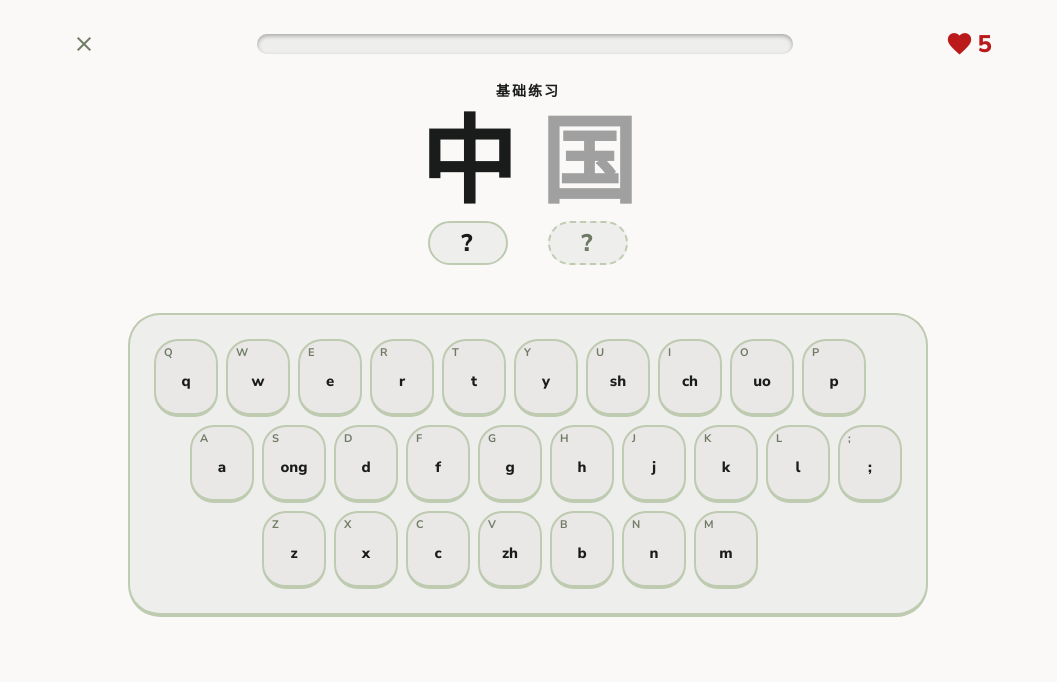
Test: Exercise › submits via keyboard key press
Click the button with aria-label "键 v" at (510, 550), box [478,511,542,589]
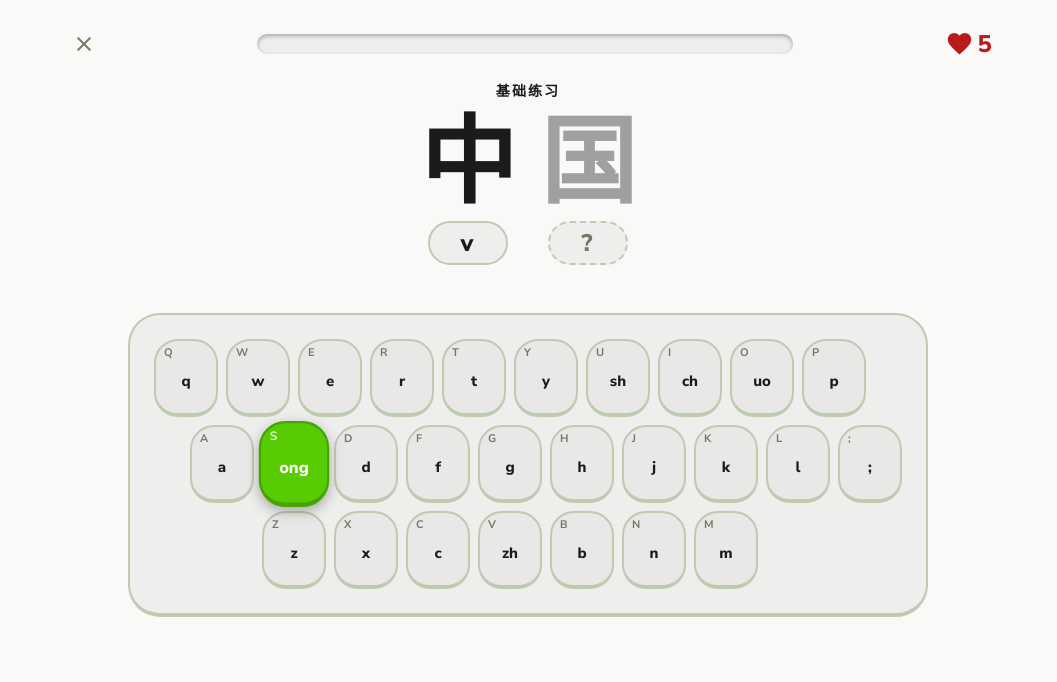
Click the button with aria-label "键 s" at (294, 464), box [259,421,329,507]
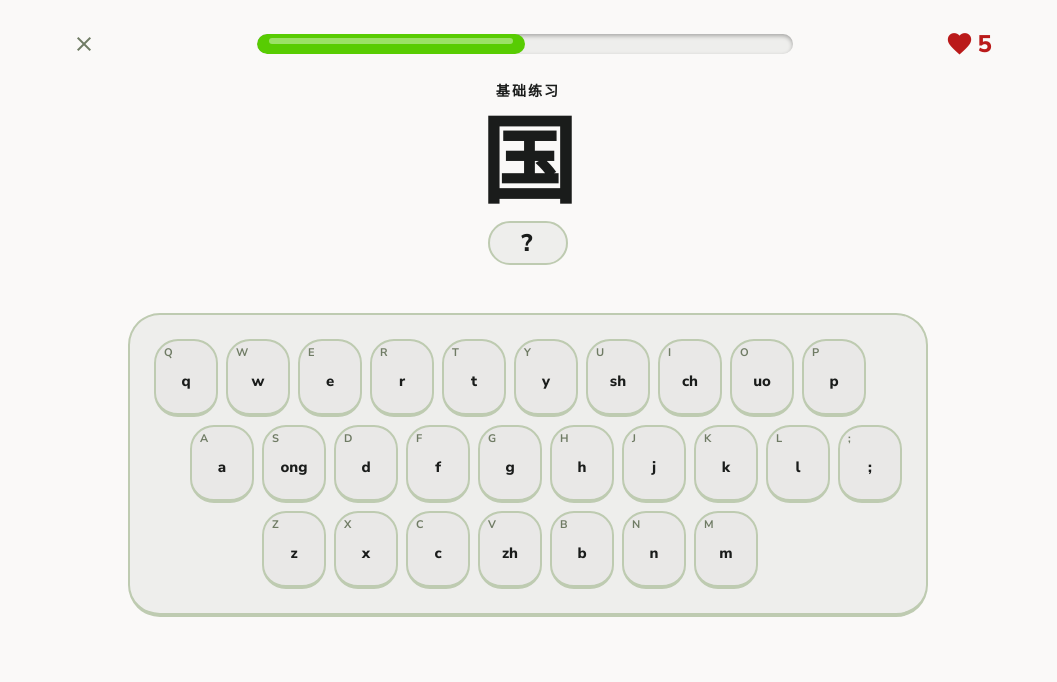
Expected: the text "国" is shown, [480,117,576,213]
